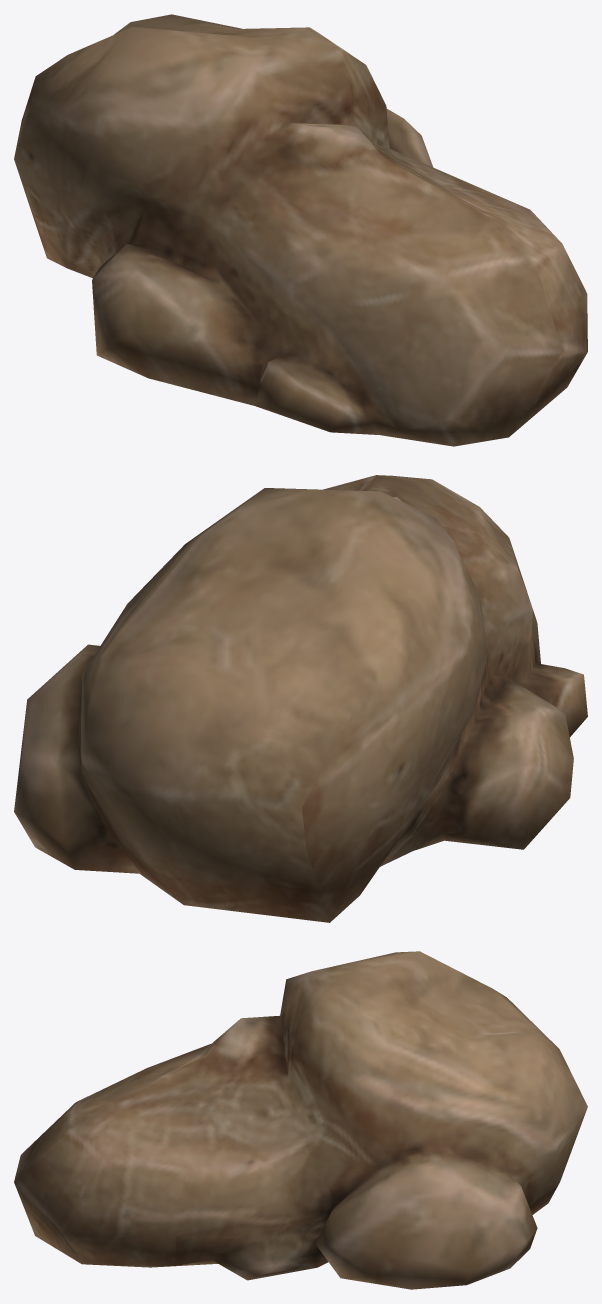
The model's file is modelRock02.fbx.
The picture shows the model from 3 angles, top to bottom: view 1: azimuth 30°, elevation 25°; view 2: azimuth 150°, elevation 25°; view 3: azimuth 270°, elevation 25°; orthographic projection. The views are drawn at different scales.
Parts seen in each view (by area): view 1: modelRock02; view 2: modelRock02; view 3: modelRock02.
Boxes of the visible parts, box(x1,y1,x2,y2) form: modelRock02: box(14, 14, 587, 446); modelRock02: box(14, 475, 587, 922); modelRock02: box(14, 951, 587, 1289).
Size of the model in its own units: 14.89 by 10.75 by 23.03.
